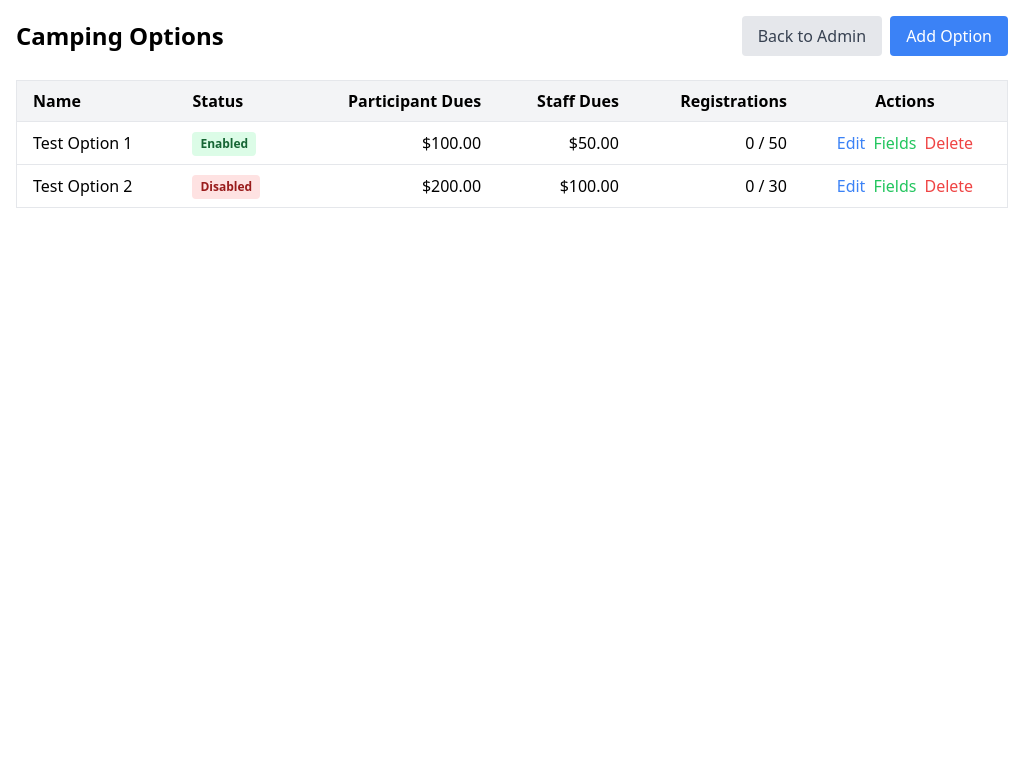
Scenario: AdminCampingOptionsPage › opens edit modal when edit button is clicked
Click the edit button for the first option (using more specific selector)
Click the button "Edit" in the row of "Test Option 1": point(851, 143) [837,131,865,155]
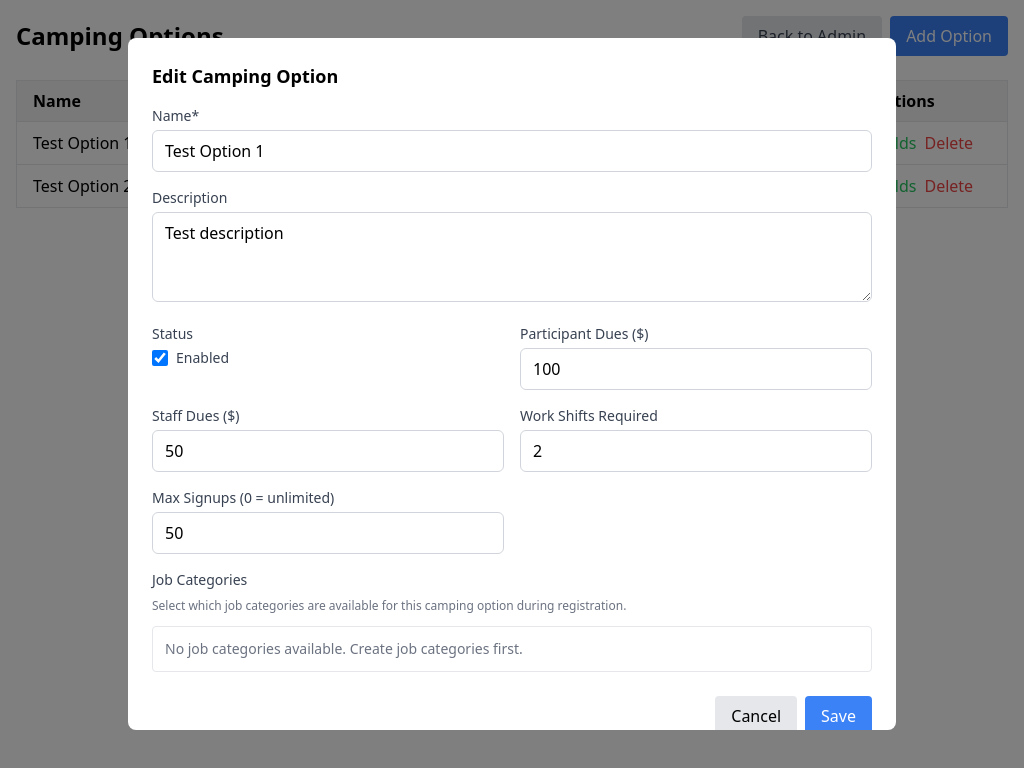
Result: the heading "Edit Camping Option" is shown at [152,64,338,88]
